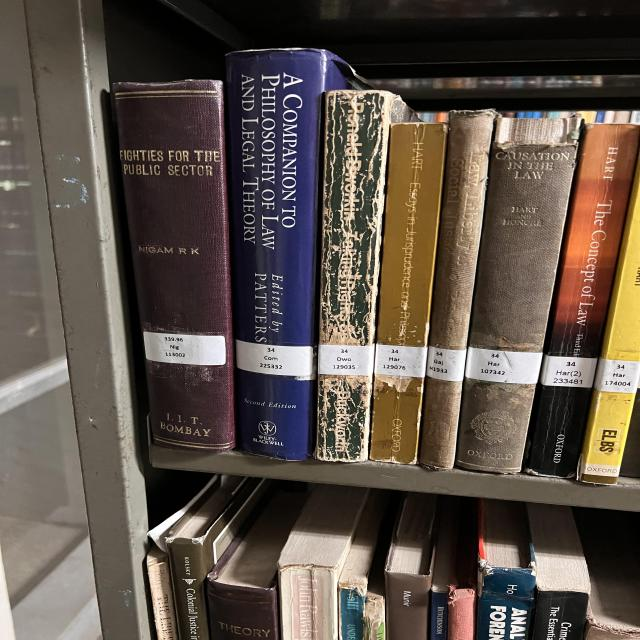Book: (227, 49, 367, 460), (113, 80, 235, 451), (457, 118, 578, 472), (525, 125, 638, 478), (315, 90, 410, 461), (420, 110, 497, 469), (370, 122, 447, 464), (577, 162, 640, 485)
Label: (235, 340, 313, 380), (465, 348, 543, 384), (143, 331, 225, 365), (540, 355, 597, 388), (375, 344, 428, 378), (318, 345, 375, 376), (593, 358, 640, 394), (427, 346, 467, 381)
